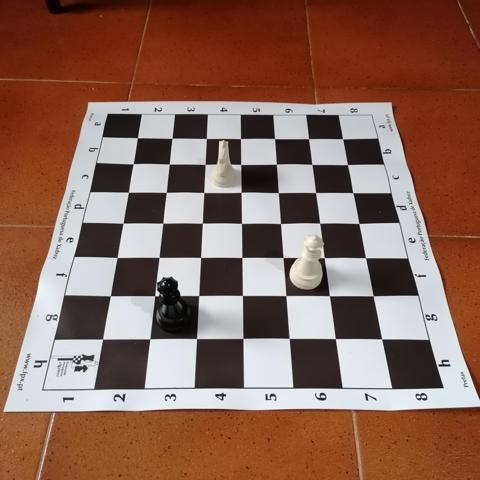xcorner: (233, 131, 250, 148), (305, 157, 322, 174), (234, 185, 251, 202), (196, 185, 213, 202), (158, 185, 175, 202), (120, 185, 137, 202), (318, 251, 335, 268), (235, 251, 252, 268), (109, 251, 126, 268), (375, 331, 392, 348), (283, 332, 300, 349), (199, 131, 215, 148), (164, 131, 181, 147), (129, 131, 146, 147), (270, 157, 286, 174), (234, 157, 250, 174), (198, 157, 214, 174), (161, 157, 178, 173), (125, 157, 142, 173), (346, 186, 363, 202), (309, 186, 326, 202), (313, 217, 330, 233), (274, 217, 291, 233), (195, 217, 212, 233), (155, 217, 172, 233), (115, 217, 132, 233), (359, 251, 376, 267), (277, 251, 293, 268), (194, 251, 210, 268), (152, 251, 168, 268), (324, 289, 340, 306), (280, 289, 296, 306), (236, 289, 252, 306), (147, 290, 164, 306), (103, 290, 119, 307), (329, 332, 346, 348), (237, 332, 253, 349), (143, 333, 159, 350), (96, 333, 112, 350), (336, 132, 352, 148), (302, 132, 318, 148), (268, 132, 284, 148), (341, 158, 357, 174), (272, 186, 288, 202), (353, 217, 369, 233), (235, 217, 251, 233), (367, 289, 383, 305), (192, 290, 208, 306), (190, 333, 206, 349)
